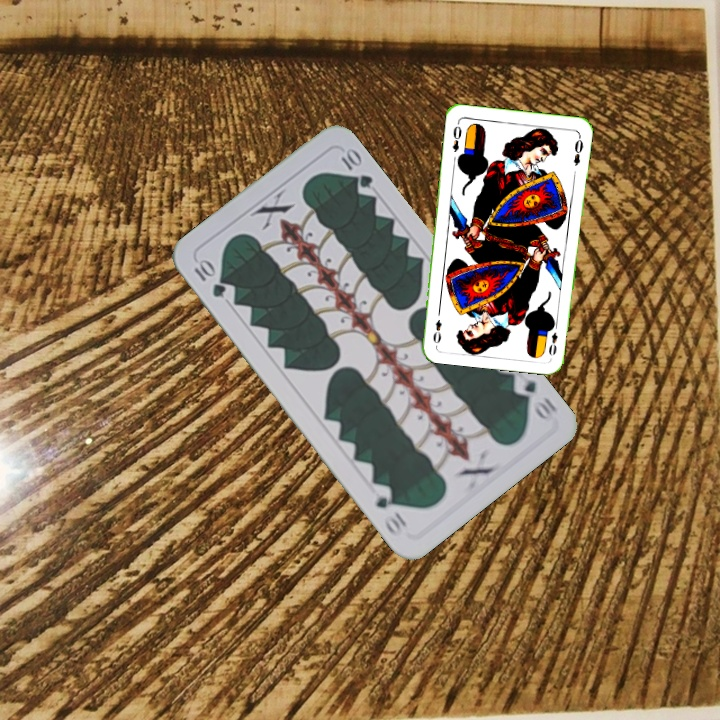EO: (545, 319, 560, 358), (448, 119, 464, 155)
G10: (508, 370, 561, 423), (190, 255, 229, 301)
